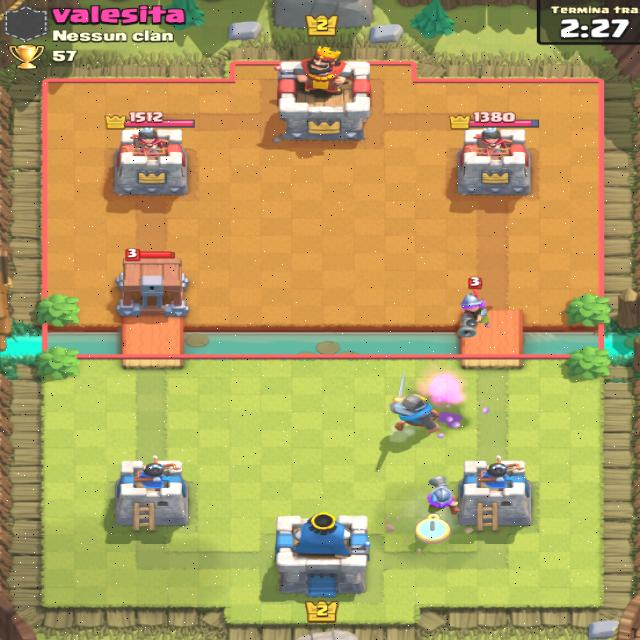Enemy-GoblinCage: (115, 248, 186, 316)
Player-Knight: (391, 365, 468, 438)
Player-Musketeer: (456, 276, 507, 339), (420, 470, 462, 519)
